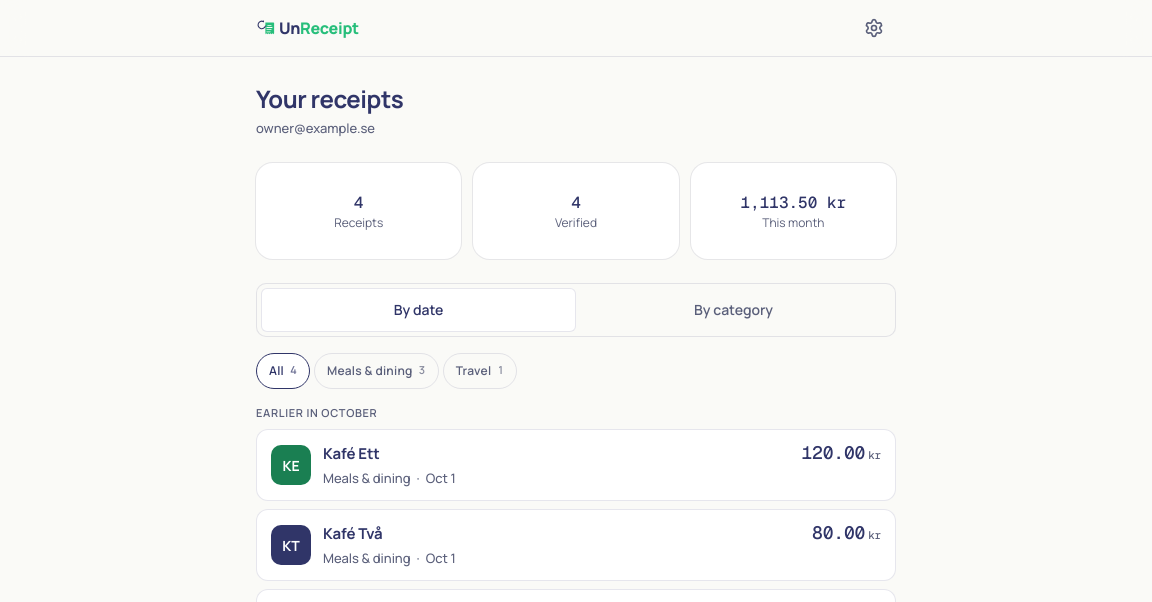
Test case: Dashboard grouping and filters › filters to one category from its chip, and back to all on a second tap
Click the button "Travel 1": click(480, 370) top-left (443, 348), bottom-right (517, 392)
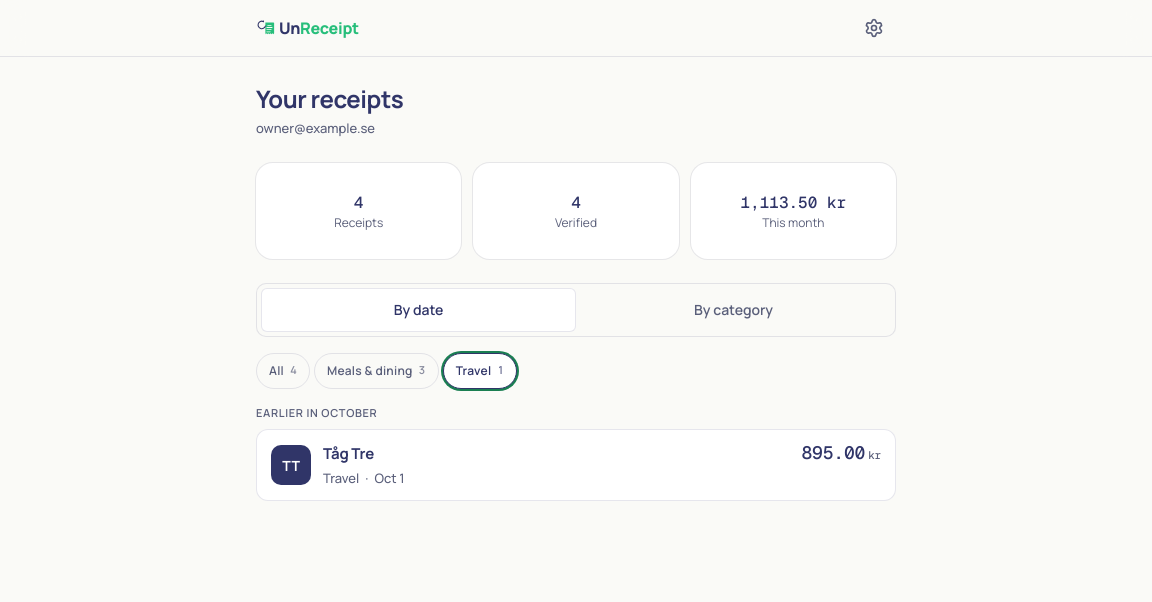
Expected: the text "Tåg Tre" is shown, top-left (323, 445), bottom-right (374, 464)
Expected: the button "Kafé Ett" is gone
Click the button "Travel 1": click(480, 370) top-left (443, 348), bottom-right (517, 392)
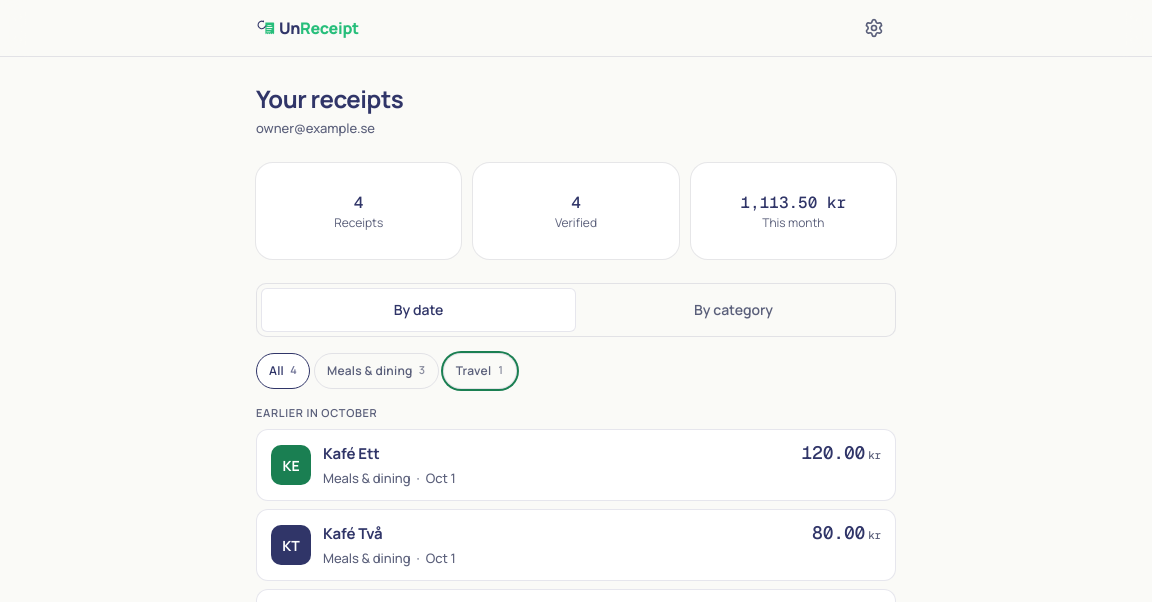
Expected: the text "Kafé Ett" is shown, top-left (323, 445), bottom-right (380, 464)
